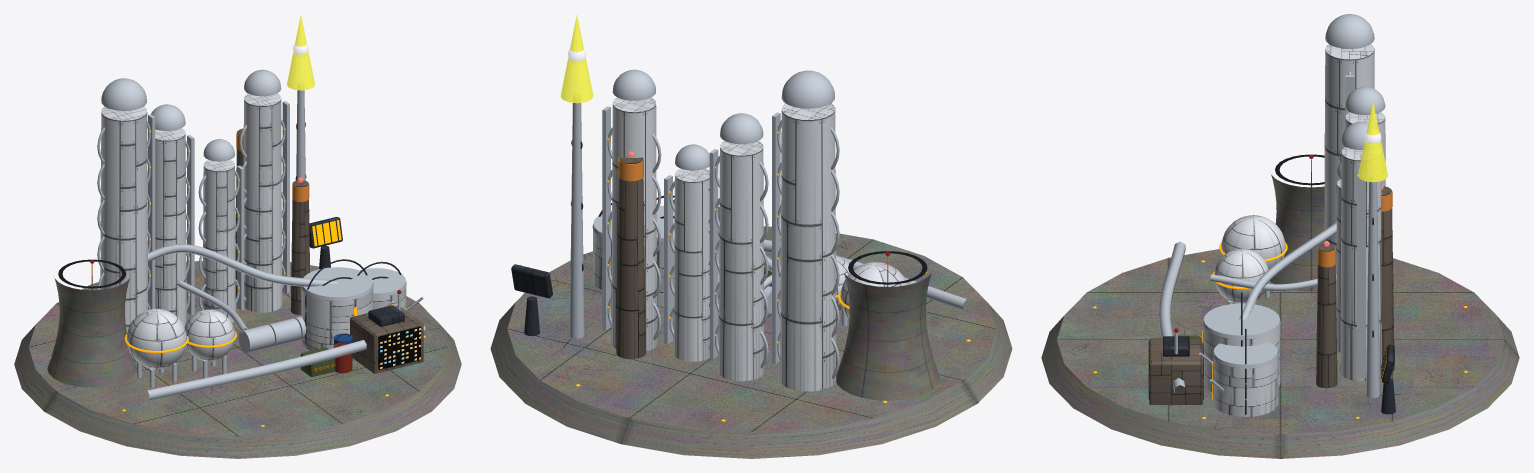
The model's file is refinery-T4.glb.
The picture shows the model from 3 angles, left to right: view 1: azimuth 30°, elevation 25°; view 2: azimuth 150°, elevation 25°; view 3: azimuth 270°, elevation 25°; orthographic projection. The views are drawn at different scales.
Parts seen in each view (by area): view 1: object 1, object 12, object 51, object 112, object 27, object 40, object 73, object 89, object 105, anim:smoke, object 79, object 106 (+20 smaller); view 2: object 1, object 12, object 27, object 112, object 40, object 51, anim:smoke, object 64, object 26, object 63, object 39, object 13 (+11 smaller); view 3: object 1, object 51, anim:smoke (×2), object 12, object 112, object 96, object 106, object 64, object 73, object 90, object 79, object 63 (+12 smaller).
Boxes of the visible parts, x1,y1,x2,y2 form: object 1: (14,261,461,458); object 12: (100,106,148,332); object 51: (243,93,282,312); object 112: (47,278,136,387); object 27: (155,128,186,326); object 40: (202,160,235,322); object 73: (126,308,186,369); object 89: (301,287,373,350); object 105: (147,325,425,400); anim:smoke: (290,180,309,314); object 79: (184,309,234,361); object 106: (350,306,423,373); object 1: (490,226,1012,458); object 12: (780,103,836,391); object 27: (718,141,764,381); object 112: (836,273,939,400); object 40: (674,168,709,361); object 51: (611,97,657,351); anim:smoke: (616,156,645,359); object 64: (569,103,584,338); object 26: (772,112,780,363); object 63: (602,106,610,330); object 39: (709,149,718,359); object 13: (781,70,834,108); object 1: (1041,249,1519,458); object 51: (1340,147,1381,381); anim:smoke (×2): (1316,186,1394,388); object 12: (1324,44,1374,294); object 112: (1270,174,1324,291); object 96: (1213,356,1278,416); object 106: (1149,338,1203,404); object 64: (1366,182,1379,397); object 73: (1221,215,1285,269); object 90: (1203,303,1280,339); object 79: (1214,248,1268,303); object 63: (1357,175,1365,377).
Size of the model in its own units: 6.2 by 4.56 by 6.2.
Materials: 21 (7 with a texture image).
